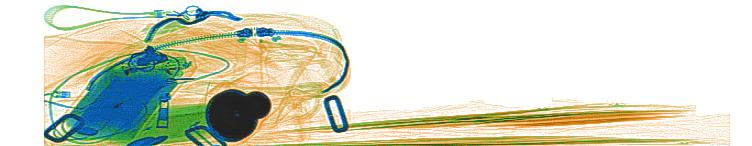seal: (203, 88, 272, 142)
